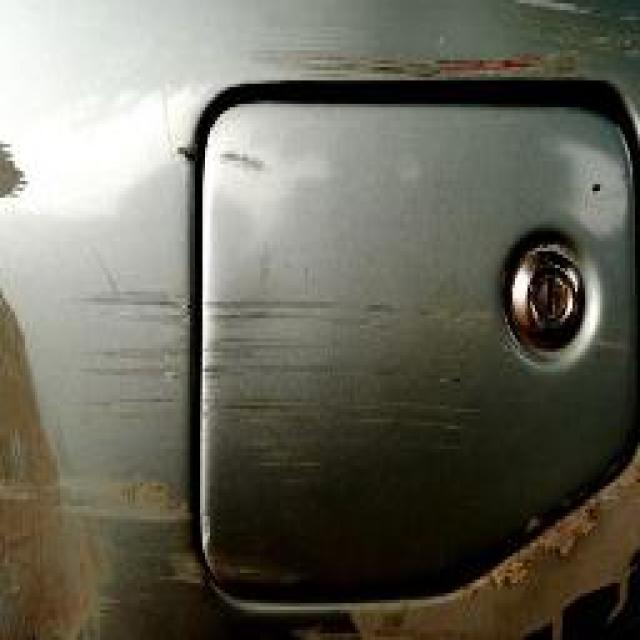Fender: (35, 17, 640, 637)
